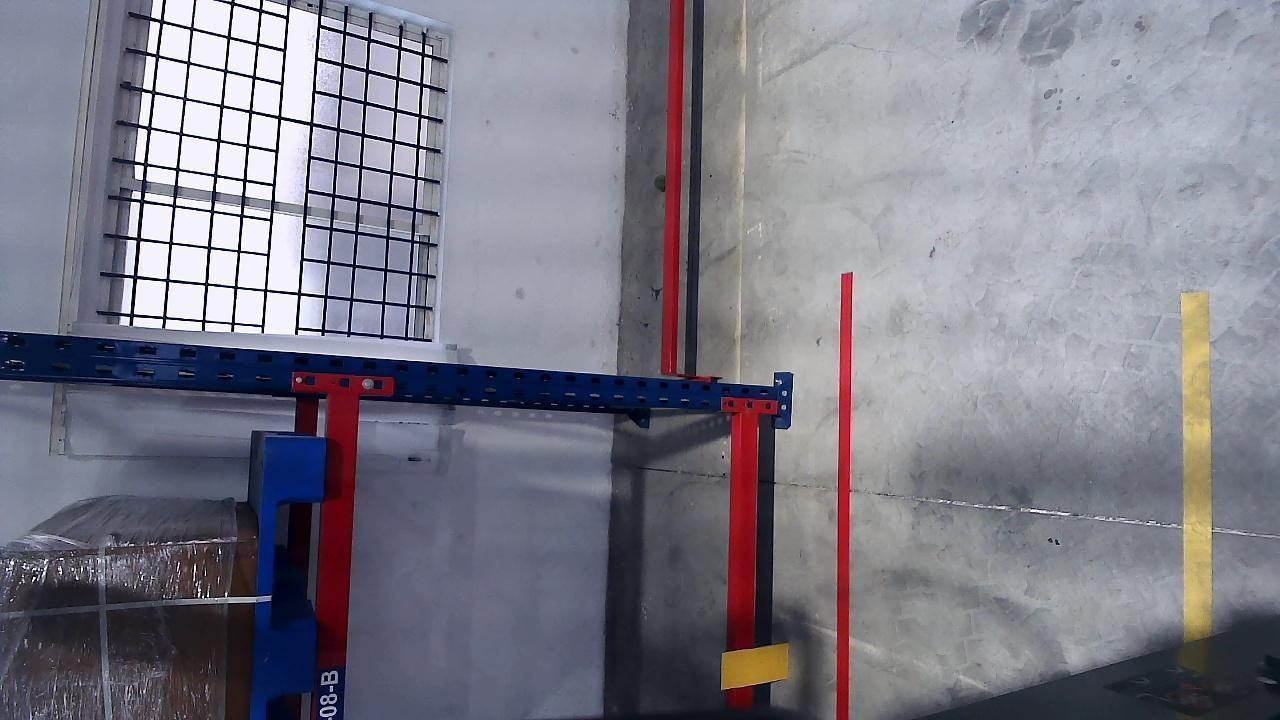red_line: (835, 274, 854, 716)
yellow_line: (1181, 298, 1214, 635)
